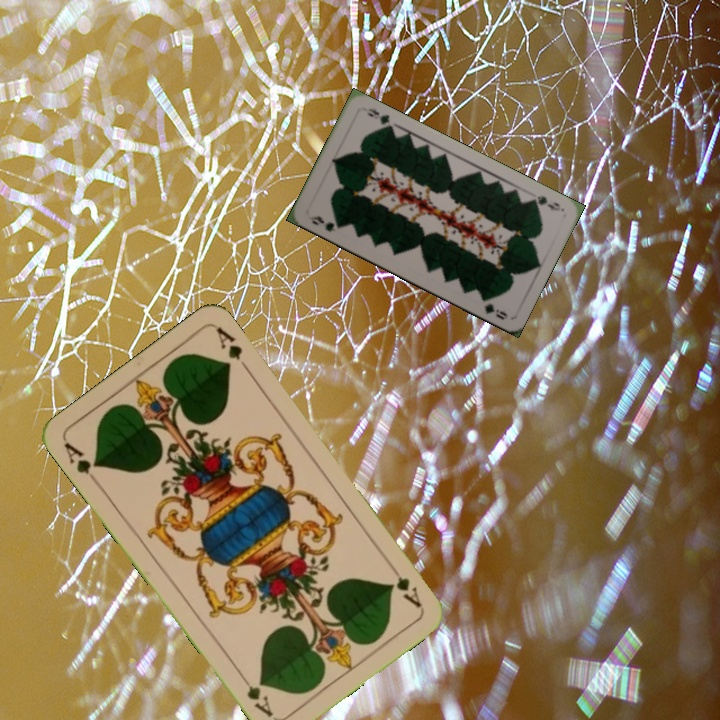G9: (304, 212, 345, 235), (527, 191, 565, 214)
GA: (59, 438, 103, 489), (386, 558, 425, 610)
